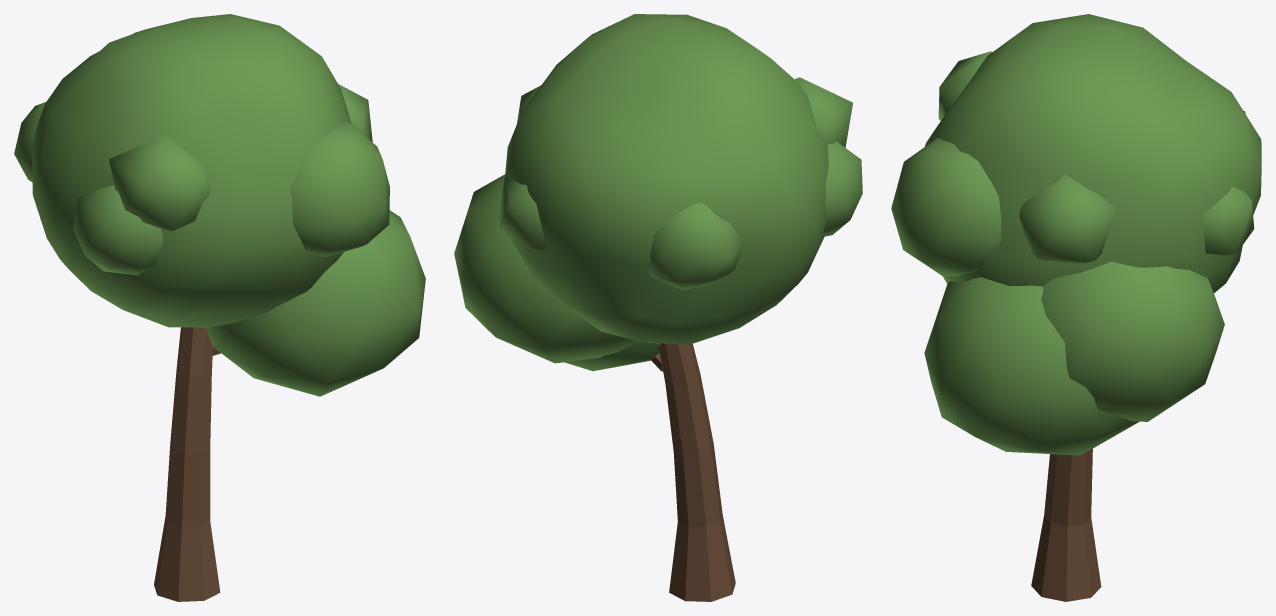
The model's file is tree_round_3.glb.
The picture shows the model from 3 angles, left to right: view 1: azimuth 30°, elevation 25°; view 2: azimuth 150°, elevation 25°; view 3: azimuth 270°, elevation 25°; orthographic projection.
Parts seen in each view (by area): view 1: tree_round_3; view 2: tree_round_3; view 3: tree_round_3.
Boxes of the visible parts, x1,y1,x2,y2 form: tree_round_3: (14, 14, 425, 601); tree_round_3: (454, 14, 862, 601); tree_round_3: (891, 14, 1261, 601).
Bounding box in the file's own units: 3.65 × 5.71 × 3.42.
